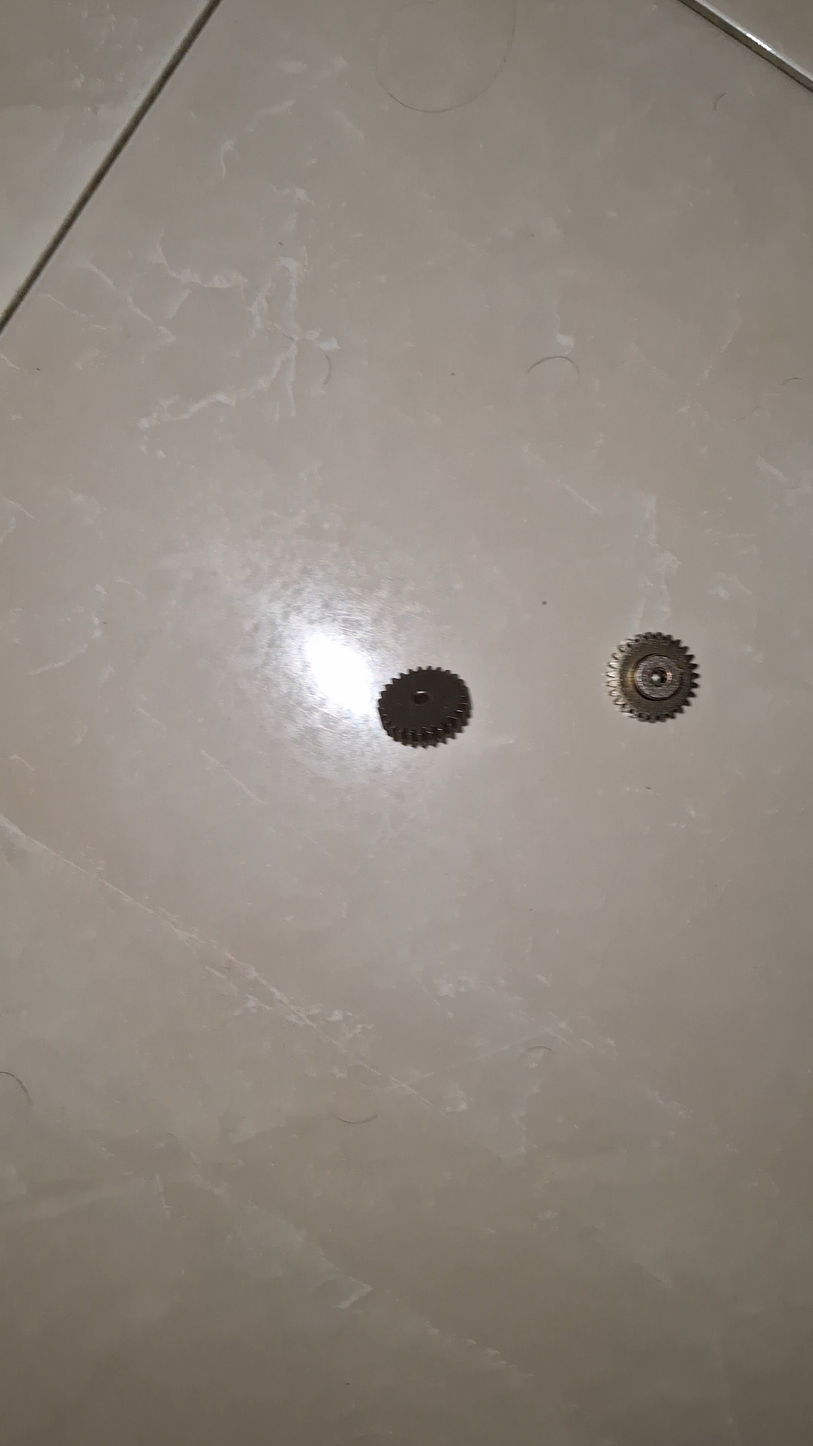spur gear: (607, 632, 699, 721), (378, 668, 471, 747)
